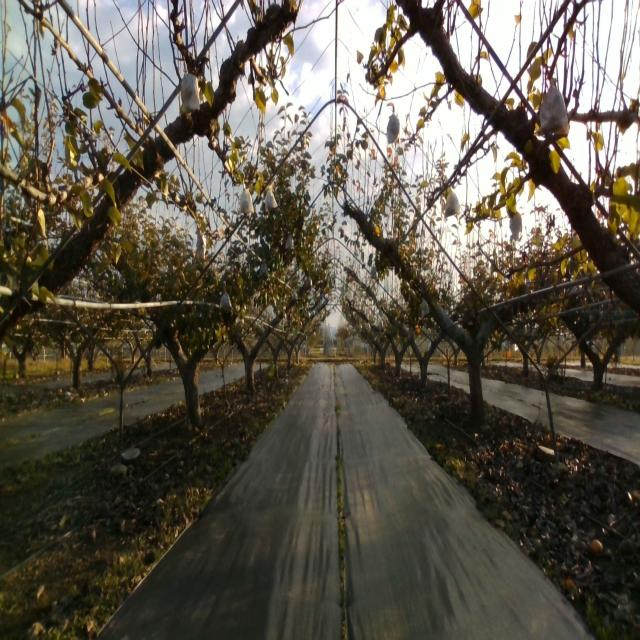pearbags: (533, 77, 569, 137), (181, 60, 200, 120), (387, 104, 400, 144), (509, 211, 523, 241), (444, 188, 458, 218), (239, 186, 254, 213), (197, 223, 207, 261), (219, 290, 232, 312), (265, 190, 278, 212)
